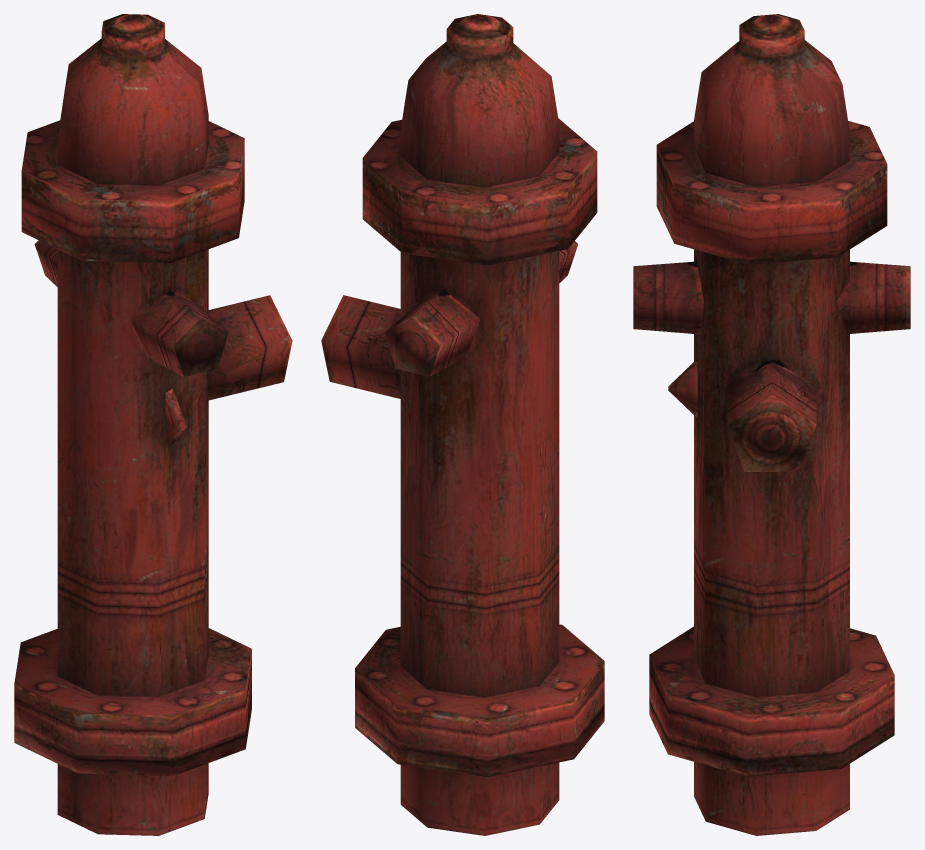
Rendered from Hydtrant_LOD1.fbx.
3 views of the same model, side by side, from view 1: azimuth 30°, elevation 25°; view 2: azimuth 150°, elevation 25°; view 3: azimuth 270°, elevation 25° (orthographic).
Parts seen in each view (by area): view 1: polySurface81; view 2: polySurface81; view 3: polySurface81.
Boxes of the visible parts, left/top/right/bottom form: polySurface81: left=14, top=14, right=292, bottom=835; polySurface81: left=321, top=14, right=604, bottom=835; polySurface81: left=633, top=14, right=910, bottom=835.
Bounding box in the file's own units: 0.5338 × 1.65 × 0.5272.
